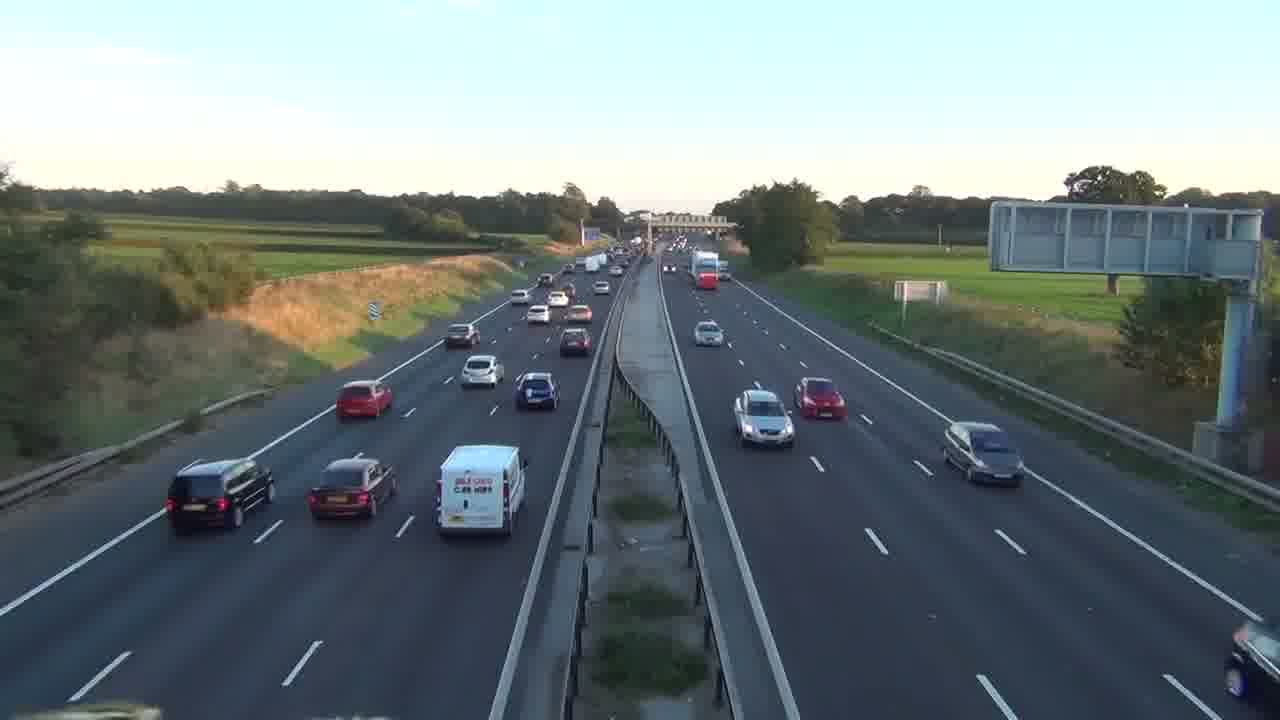car: (305, 456, 399, 520), (942, 420, 1025, 486), (1223, 621, 1279, 716), (732, 388, 796, 449), (795, 376, 848, 422), (335, 380, 394, 420), (513, 369, 559, 410), (460, 353, 504, 389), (559, 327, 593, 357), (445, 321, 480, 350), (693, 320, 723, 348)
truck: (433, 443, 529, 537)
